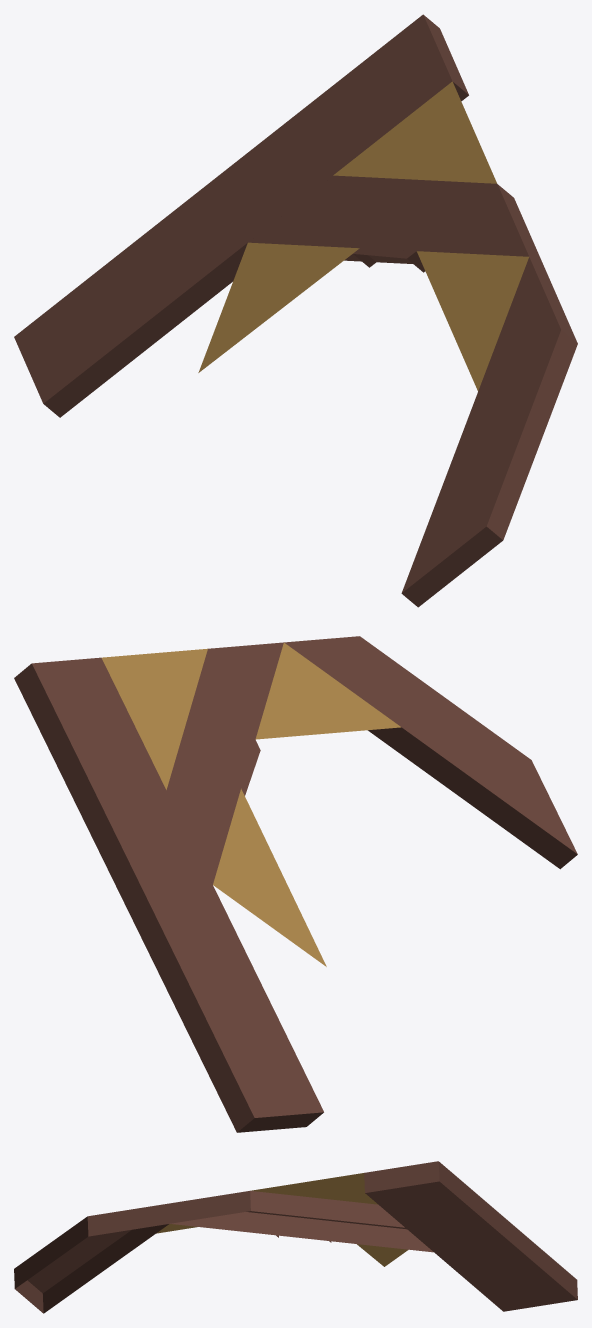
Rendered from Parquet_Broken01.fbx.
The picture shows the model from 3 angles, top to bottom: view 1: azimuth 30°, elevation 25°; view 2: azimuth 150°, elevation 25°; view 3: azimuth 270°, elevation 25°; orthographic projection. The views are drawn at different scales.
Visible parts, largest first — view 1: Cube.001; view 2: Cube.001; view 3: Cube.001.
Part boxes in pixels (x1=…): Cube.001: x1=14, y1=14, x2=577, y2=607; Cube.001: x1=14, y1=636, x2=577, y2=1132; Cube.001: x1=14, y1=1161, x2=577, y2=1313.
Size of the model in its own units: 54.06 by 52.03 by 99.36.
